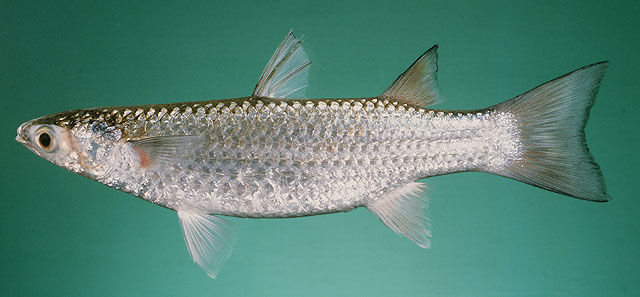fish: (15, 26, 613, 281)
